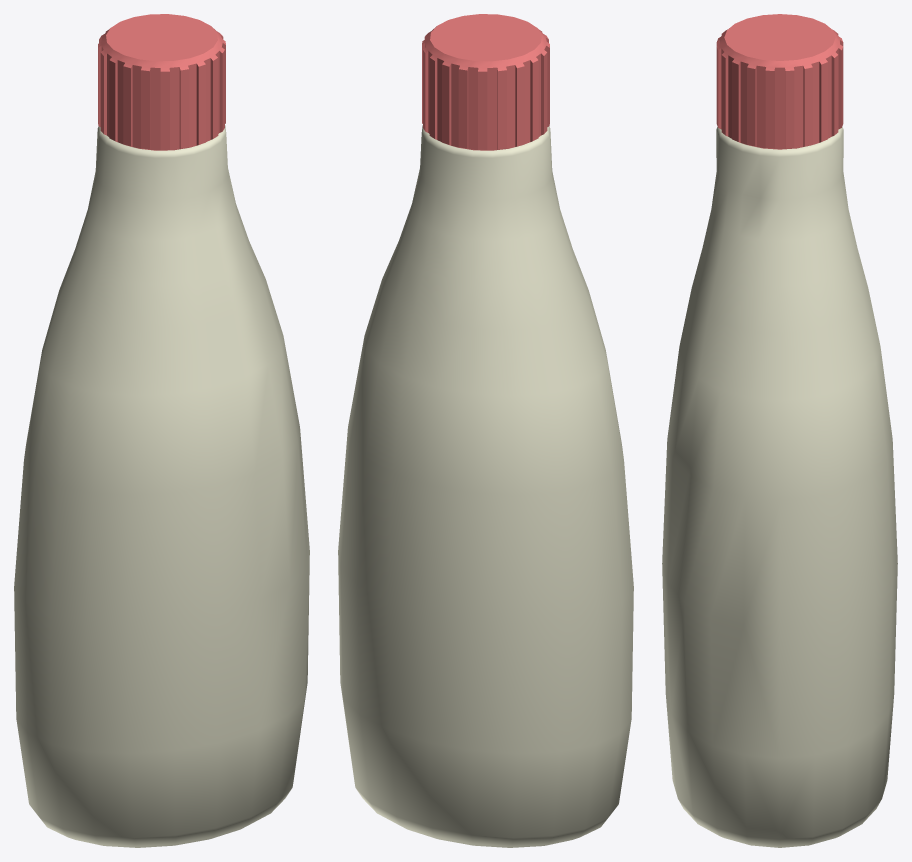
File: mayonaise_full.fbx
The picture shows the model from 3 angles, left to right: view 1: azimuth 30°, elevation 25°; view 2: azimuth 150°, elevation 25°; view 3: azimuth 270°, elevation 25°; orthographic projection.
Parts seen in each view (by area): view 1: mayonaise_full; view 2: mayonaise_full; view 3: mayonaise_full.
Part boxes in pixels (x1,y1,x2,y2): mayonaise_full: [14, 14, 309, 847]; mayonaise_full: [338, 14, 633, 847]; mayonaise_full: [662, 14, 897, 847].
Bounding box in the file's own units: 5.24 × 14.1 × 3.97.
